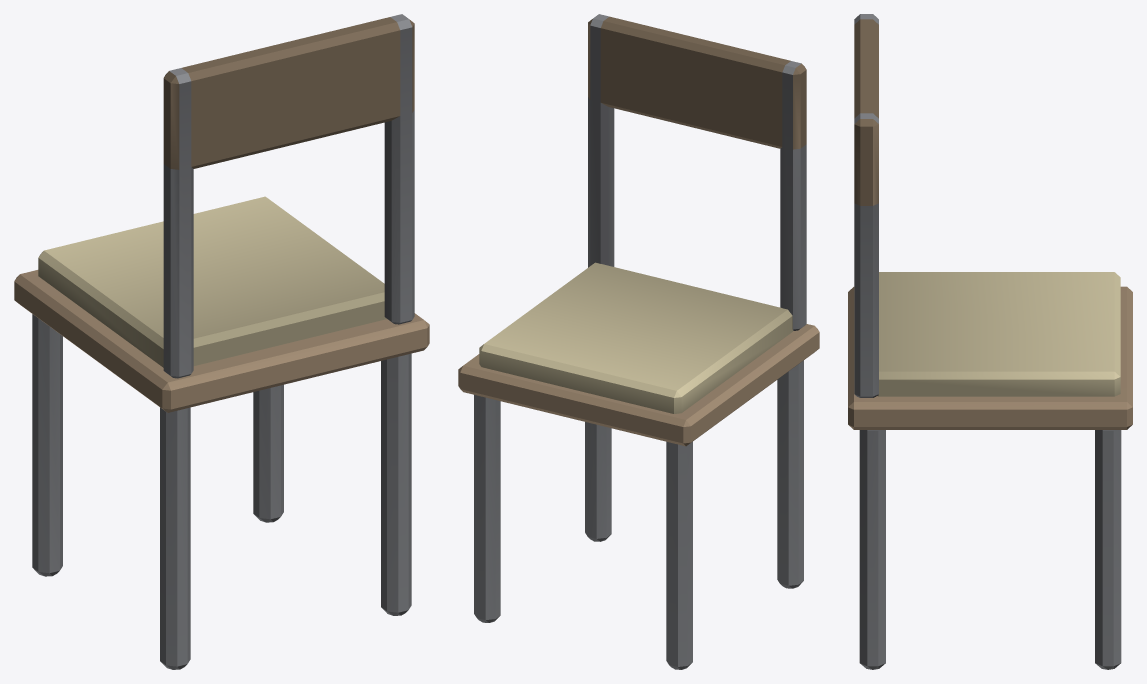
File: furn_dining_chair__walnut.glb
3 views of the same model, side by side, from view 1: azimuth 30°, elevation 25°; view 2: azimuth 150°, elevation 25°; view 3: azimuth 270°, elevation 25° (orthographic). The views are drawn at different scales.
Size of the model in its own units: 0.46 by 0.98 by 0.46.
